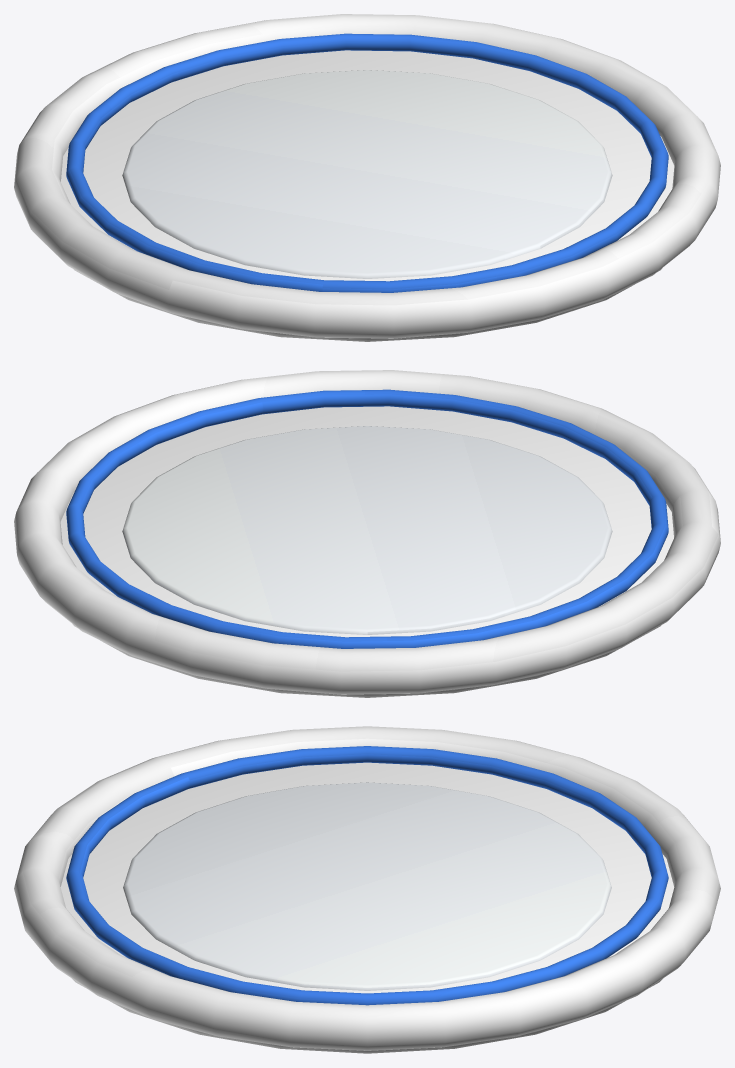
The model's file is plate-dinner.glb.
3 views of the same model, one above another, from view 1: azimuth 30°, elevation 25°; view 2: azimuth 150°, elevation 25°; view 3: azimuth 270°, elevation 25° (orthographic).
Visible parts, largest first — view 1: PlateCenterWell, PlateRimLip, PlateFlange, PlateBlueStripe; view 2: PlateCenterWell, PlateRimLip, PlateFlange, PlateBlueStripe; view 3: PlateCenterWell, PlateRimLip, PlateFlange, PlateBlueStripe.
Part boxes in pixels (x1,y1,x2,y2): PlateCenterWell: (122, 70, 612, 278); PlateRimLip: (14, 14, 720, 338); PlateFlange: (61, 50, 674, 341); PlateBlueStripe: (66, 33, 668, 292); PlateCenterWell: (122, 426, 612, 634); PlateRimLip: (14, 370, 720, 694); PlateFlange: (60, 406, 673, 697); PlateBlueStripe: (66, 389, 668, 648); PlateCenterWell: (123, 782, 611, 990); PlateRimLip: (14, 726, 720, 1050); PlateFlange: (60, 762, 674, 1053); PlateBlueStripe: (66, 746, 668, 1005).
Size of the model in its own units: 0.664 by 0.0664 by 0.664.
3 materials, 3 textured.
